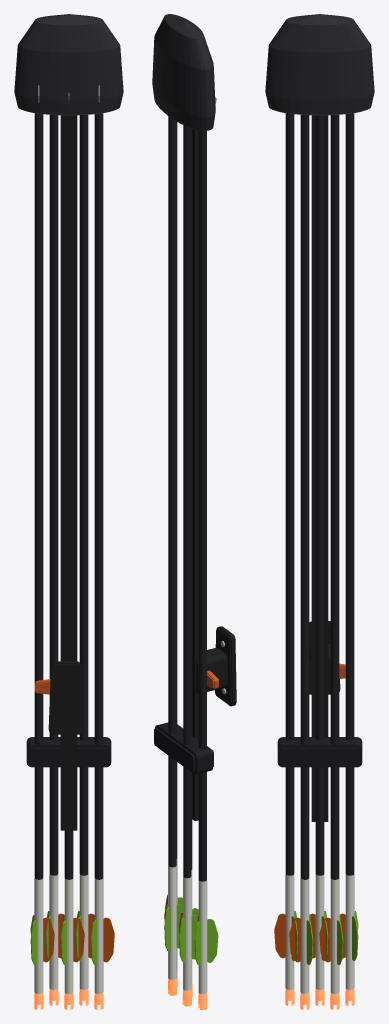
The model's file is aljava_composto.glb.
The picture shows the model from 3 angles, left to right: view 1: azimuth 90°, elevation 25°; view 2: azimuth 210°, elevation 25°; view 3: azimuth 270°, elevation 25°; orthographic projection.
Visible parts, largest first — view 1: aljava_composto_carbono, aljava_composto_aluminio_preto, aljava_composto_polimero, aljava_composto_plastico_branco, aljava_composto_borracha, aljava_composto_tinta_laranja, aljava_composto_vane_verde, aljava_composto_nock_luz; view 2: aljava_composto_carbono, aljava_composto_aluminio_preto, aljava_composto_polimero, aljava_composto_plastico_branco, aljava_composto_vane_verde, aljava_composto_borracha, aljava_composto_nock_luz; view 3: aljava_composto_carbono, aljava_composto_polimero, aljava_composto_aluminio_preto, aljava_composto_plastico_branco, aljava_composto_borracha, aljava_composto_tinta_laranja, aljava_composto_vane_verde, aljava_composto_nock_luz.
Part boxes in pixels (x1=…): aljava_composto_carbono: x1=34, y1=113, x2=103, y2=879; aljava_composto_aluminio_preto: x1=48, y1=115, x2=83, y2=830; aljava_composto_polimero: x1=14, y1=14, x2=123, y2=114; aljava_composto_plastico_branco: x1=34, y1=874, x2=103, y2=993; aljava_composto_borracha: x1=26, y1=737, x2=111, y2=767; aljava_composto_tinta_laranja: x1=43, y1=913, x2=114, y2=962; aljava_composto_vane_verde: x1=30, y1=911, x2=97, y2=964; aljava_composto_nock_luz: x1=34, y1=989, x2=103, y2=1009; aljava_composto_carbono: x1=168, y1=116, x2=206, y2=881; aljava_composto_aluminio_preto: x1=192, y1=128, x2=236, y2=820; aljava_composto_polimero: x1=152, y1=14, x2=215, y2=130; aljava_composto_plastico_branco: x1=168, y1=858, x2=207, y2=993; aljava_composto_vane_verde: x1=164, y1=897, x2=218, y2=965; aljava_composto_borracha: x1=154, y1=722, x2=213, y2=774; aljava_composto_nock_luz: x1=168, y1=971, x2=207, y2=1009; aljava_composto_carbono: x1=285, y1=113, x2=354, y2=879; aljava_composto_polimero: x1=265, y1=14, x2=374, y2=114; aljava_composto_aluminio_preto: x1=309, y1=115, x2=340, y2=821; aljava_composto_plastico_branco: x1=285, y1=874, x2=354, y2=993; aljava_composto_borracha: x1=277, y1=737, x2=362, y2=767; aljava_composto_tinta_laranja: x1=274, y1=913, x2=345, y2=962; aljava_composto_vane_verde: x1=291, y1=911, x2=358, y2=964; aljava_composto_nock_luz: x1=285, y1=989, x2=354, y2=1009.
Bounding box in the file's own units: 0.0516 × 0.801 × 0.08.
